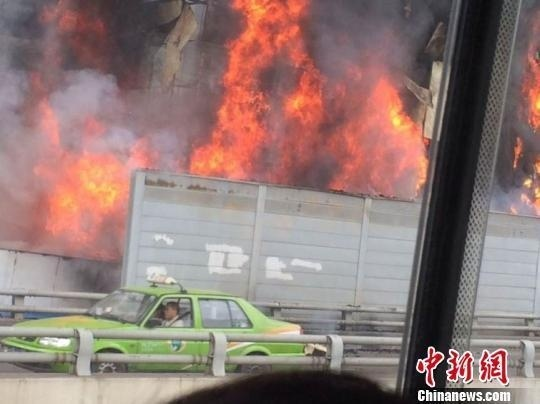fire: (186, 6, 433, 197), (33, 96, 150, 245), (504, 26, 540, 223)
